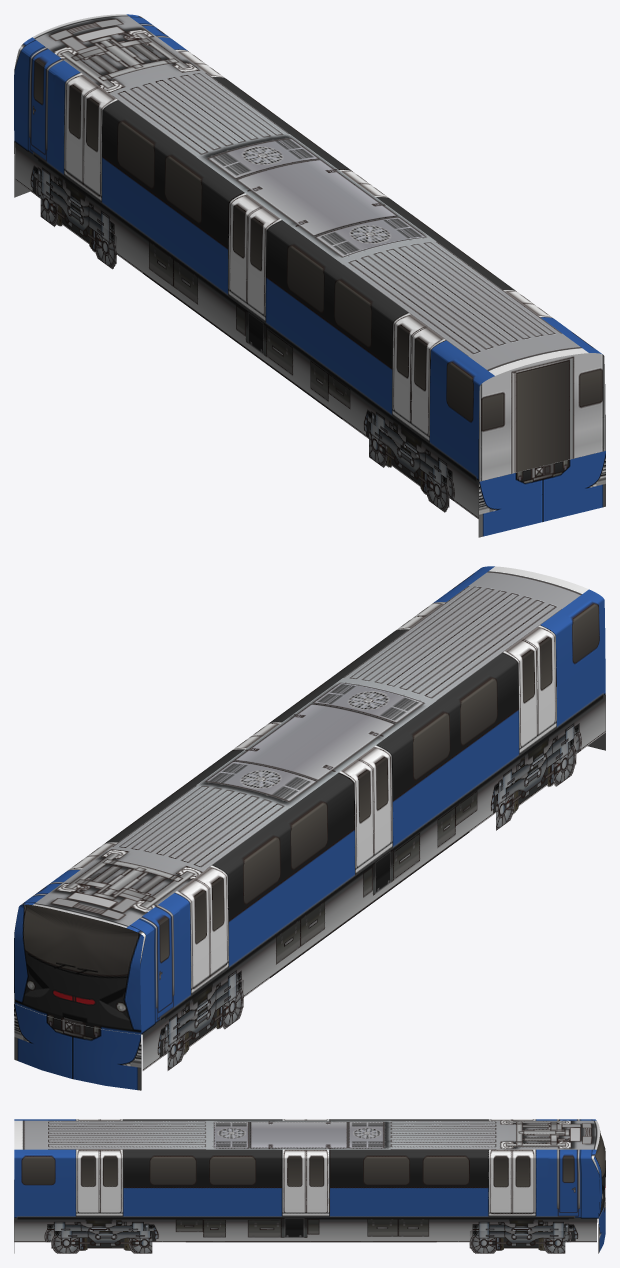
File: car2.glb
3 views of the same model, one above another, from view 1: azimuth 30°, elevation 25°; view 2: azimuth 150°, elevation 25°; view 3: azimuth 270°, elevation 25° (orthographic). The views are drawn at different scales.
Visible parts, largest first — view 1: shizuoka-a3000-car2; view 2: shizuoka-a3000-car2; view 3: shizuoka-a3000-car2.
Part boxes in pixels (bbox=[...]): shizuoka-a3000-car2: bbox=[14, 14, 605, 537]; shizuoka-a3000-car2: bbox=[14, 566, 605, 1090]; shizuoka-a3000-car2: bbox=[14, 1119, 605, 1253].
Size of the model in its own units: 2.74 by 3.32 by 17.59.
Materials: 8 (7 with a texture image).
